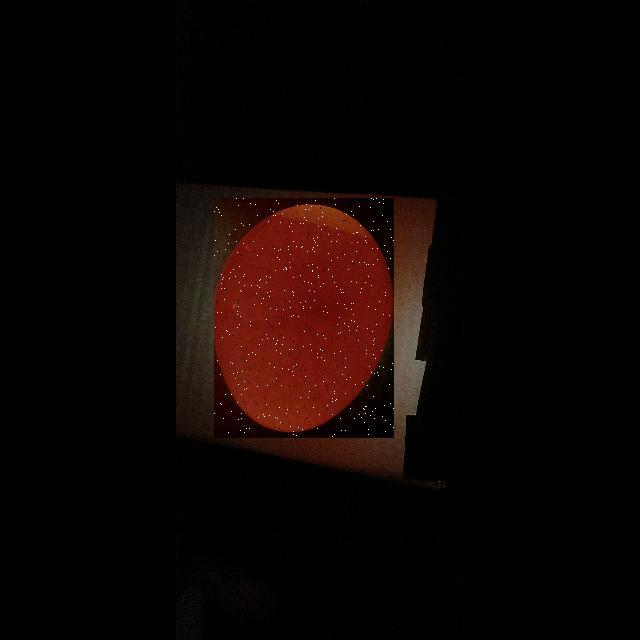Fertile: (214, 198, 394, 438)
